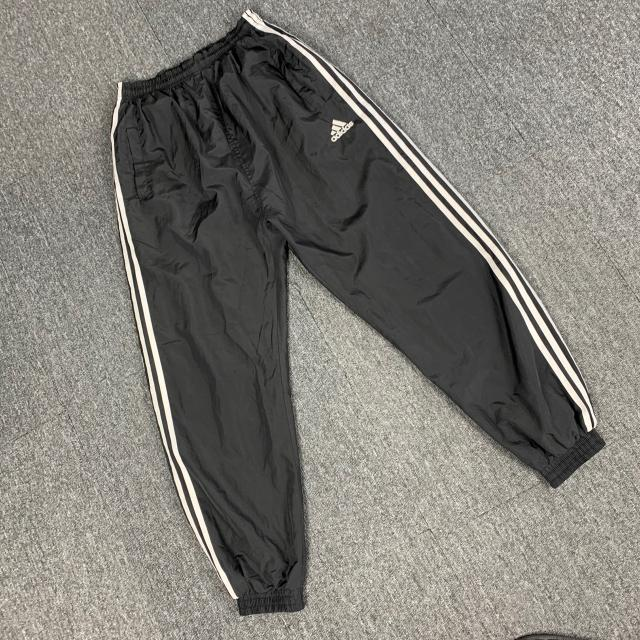pants: (104, 11, 608, 621)
